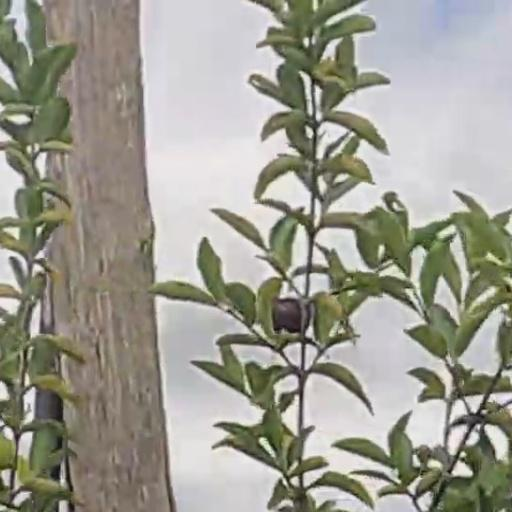acerola_vermelha: (276, 301, 305, 333)
